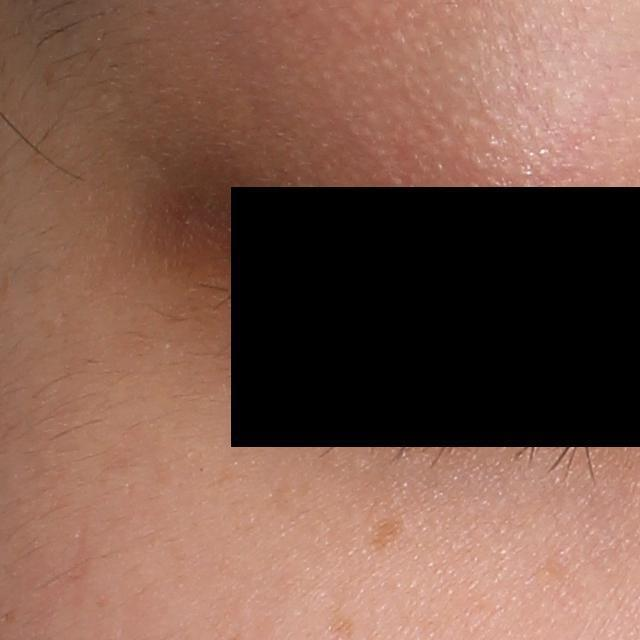melasma: (366, 515, 411, 554), (326, 613, 359, 638)
